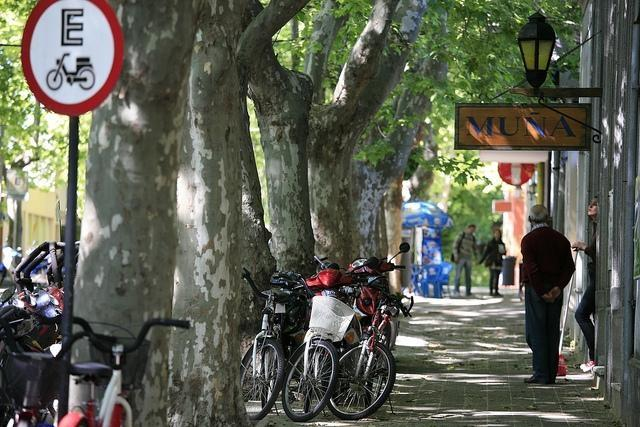bicycle: (59, 316, 192, 427), (326, 286, 410, 419), (2, 318, 89, 420), (238, 269, 292, 422), (280, 334, 336, 422)
